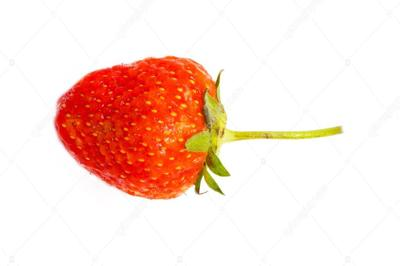strawberry: (0, 0, 400, 266)
